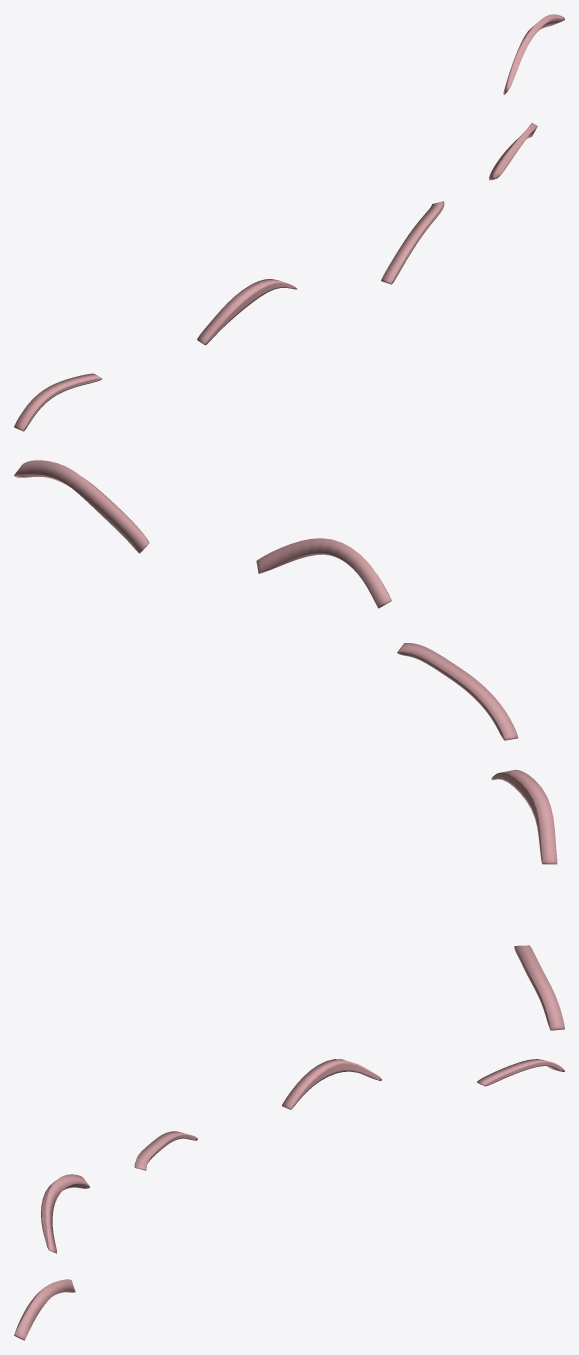
3 views of the same model, one above another, from view 1: azimuth 90°, elevation 25°; view 2: azimuth 150°, elevation 25°; view 3: azimuth 270°, elevation 25° (orthographic). The views are drawn at different scales.
Visible parts, largest first — view 1: ZA_e43bbbbba880fe17; view 2: ZA_e43bbbbba880fe17; view 3: ZA_e43bbbbba880fe17.
Boxes of the visible parts, left/top/right/bottom form: ZA_e43bbbbba880fe17: left=14, top=14, right=564, bottom=431; ZA_e43bbbbba880fe17: left=14, top=460, right=564, bottom=1030; ZA_e43bbbbba880fe17: left=14, top=1059, right=564, bottom=1340.
Bounding box in the file's own units: 0.0674 × 0.0087 × 0.0462.
